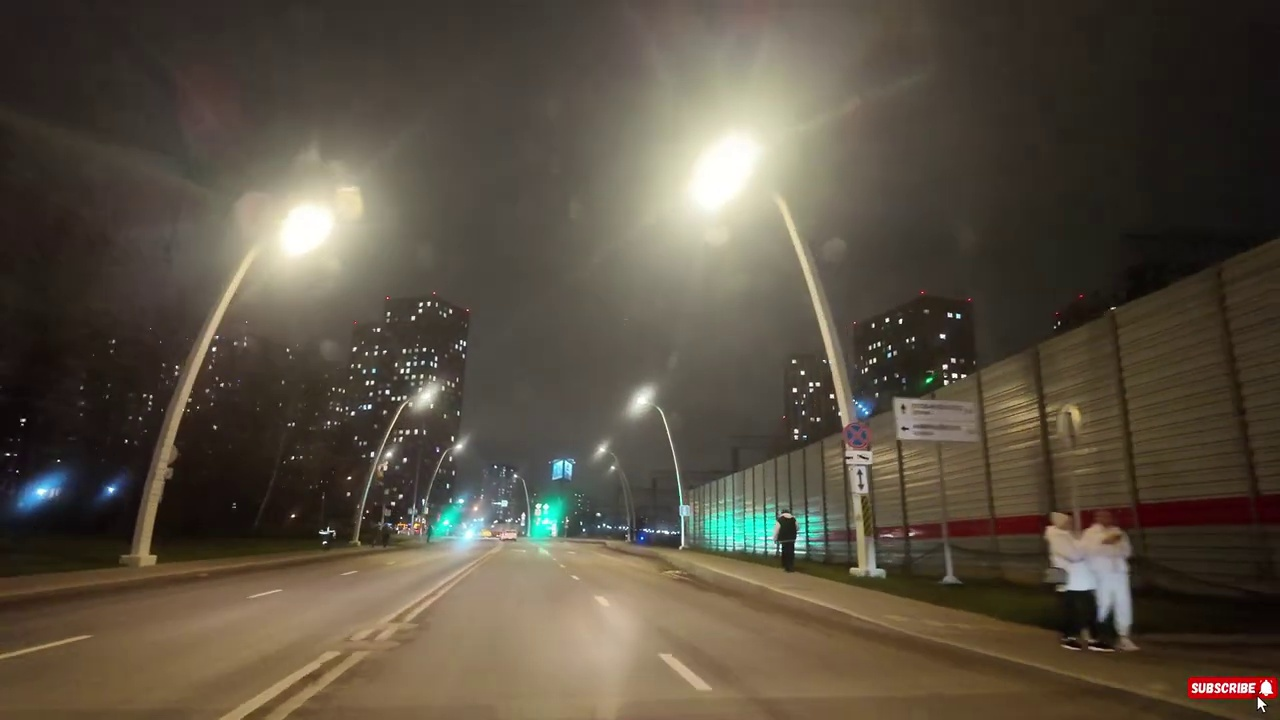acesa: (687, 129, 772, 214), (271, 198, 348, 265), (620, 383, 660, 424), (406, 379, 441, 417)
